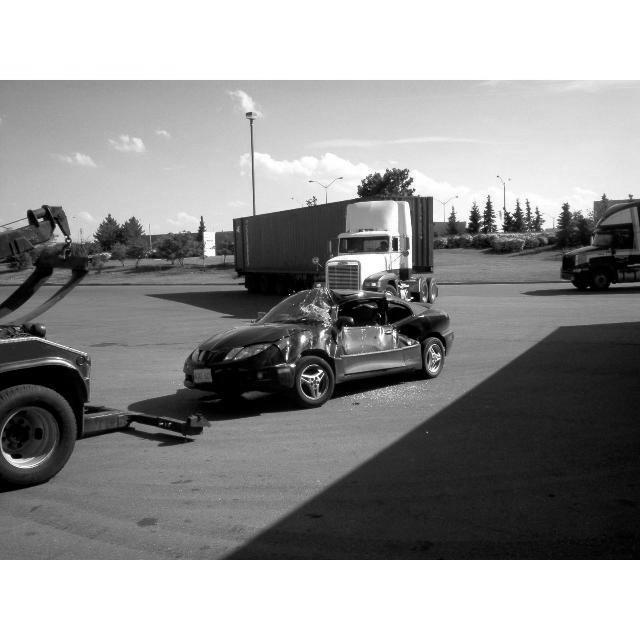Front-windscreen-damage: (269, 281, 327, 322)
doorouter-dent: (341, 303, 389, 367)
